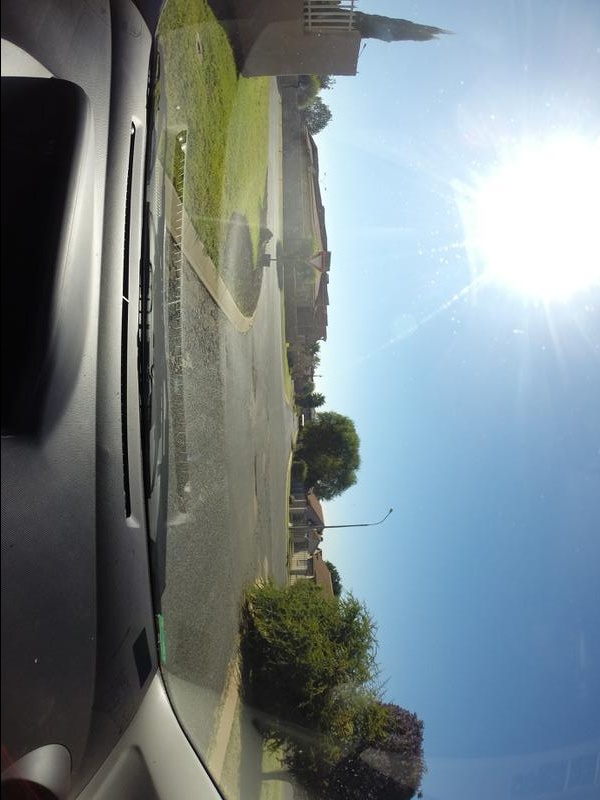pothole: (244, 454, 261, 512), (244, 356, 261, 404)
